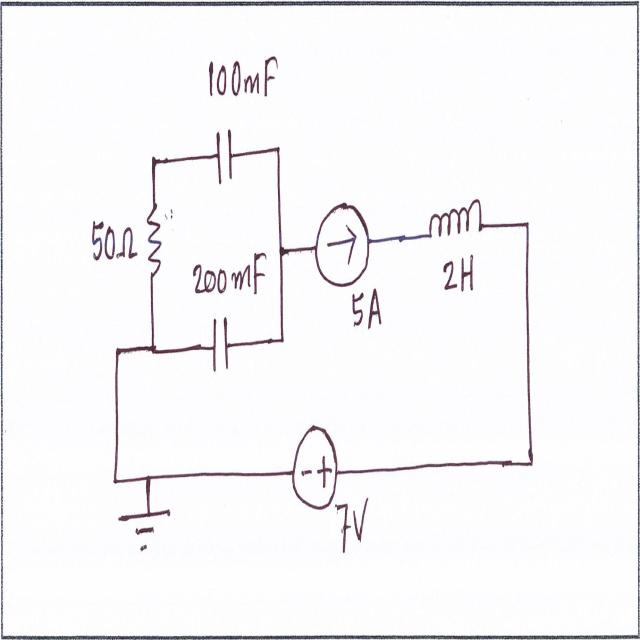capacitor: (214, 123, 236, 202), (210, 312, 231, 385)
current_source: (312, 190, 371, 291)
ground: (118, 504, 176, 564)
inductor: (427, 188, 485, 248)
resistor: (145, 199, 165, 285)
voltage_source: (289, 422, 339, 516)
